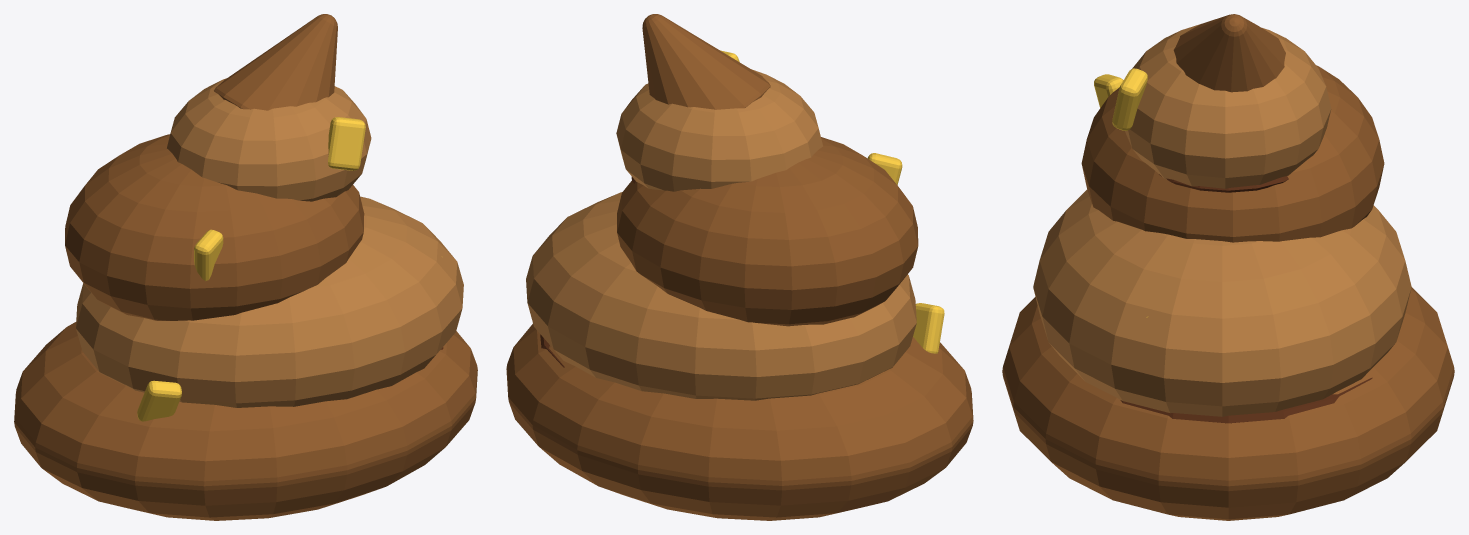
Rendered from poop.glb.
The picture shows the model from 3 angles, left to right: view 1: azimuth 30°, elevation 25°; view 2: azimuth 150°, elevation 25°; view 3: azimuth 270°, elevation 25°; orthographic projection. The views are drawn at different scales.
Visible parts, largest first — view 1: Poop_Base, Poop_Lower_Coil, Poop_Middle_Coil, Poop_Upper_Coil, Poop_Curl, Corn_Kernel_3, Corn_Kernel_0, Corn_Kernel_2; view 2: Poop_Base, Poop_Middle_Coil, Poop_Lower_Coil, Poop_Upper_Coil, Poop_Curl, Corn_Kernel_0, Corn_Kernel_2; view 3: Poop_Lower_Coil, Poop_Base, Poop_Middle_Coil, Poop_Upper_Coil, Poop_Curl, Crease_Base, Corn_Kernel_3, Crease_Upper, Corn_Kernel_2.
Part boxes in pixels (x1,y1,x2,y2): Poop_Base: [14, 322, 477, 520]; Poop_Lower_Coil: [76, 196, 463, 407]; Poop_Middle_Coil: [65, 134, 364, 320]; Poop_Upper_Coil: [167, 78, 371, 201]; Poop_Curl: [214, 14, 337, 110]; Corn_Kernel_3: [328, 117, 365, 170]; Corn_Kernel_0: [137, 380, 181, 421]; Corn_Kernel_2: [194, 229, 223, 281]; Poop_Base: [506, 324, 973, 520]; Poop_Middle_Coil: [617, 137, 918, 326]; Poop_Lower_Coil: [526, 192, 916, 400]; Poop_Upper_Coil: [616, 69, 822, 191]; Poop_Curl: [642, 14, 770, 109]; Corn_Kernel_0: [913, 303, 944, 353]; Corn_Kernel_2: [867, 153, 902, 184]; Poop_Lower_Coil: [1033, 189, 1411, 416]; Poop_Base: [1002, 287, 1454, 520]; Poop_Middle_Coil: [1081, 65, 1384, 242]; Poop_Upper_Coil: [1125, 24, 1331, 188]; Poop_Curl: [1173, 14, 1285, 92]; Crease_Base: [1120, 377, 1372, 423]; Corn_Kernel_3: [1112, 68, 1147, 130]; Crease_Upper: [1159, 174, 1288, 192]; Corn_Kernel_2: [1094, 74, 1123, 107].
Size of the model in its own units: 0.3585 by 0.3617 by 0.2987.
